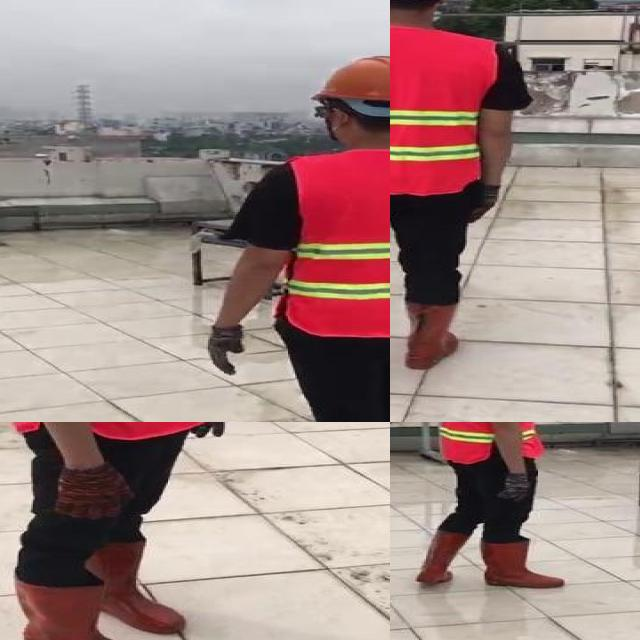boots: (13, 577, 169, 640), (97, 538, 189, 632), (474, 539, 563, 588), (401, 297, 458, 370), (415, 531, 469, 585)
hand_glove: (59, 460, 132, 518), (205, 326, 247, 375), (461, 183, 499, 224), (501, 473, 527, 500)
head_helmet: (303, 51, 390, 109)
person: (188, 47, 390, 422), (390, 0, 523, 392), (0, 422, 233, 640), (397, 422, 580, 591)
vest: (286, 149, 390, 336), (390, 28, 491, 194), (438, 422, 539, 463)
